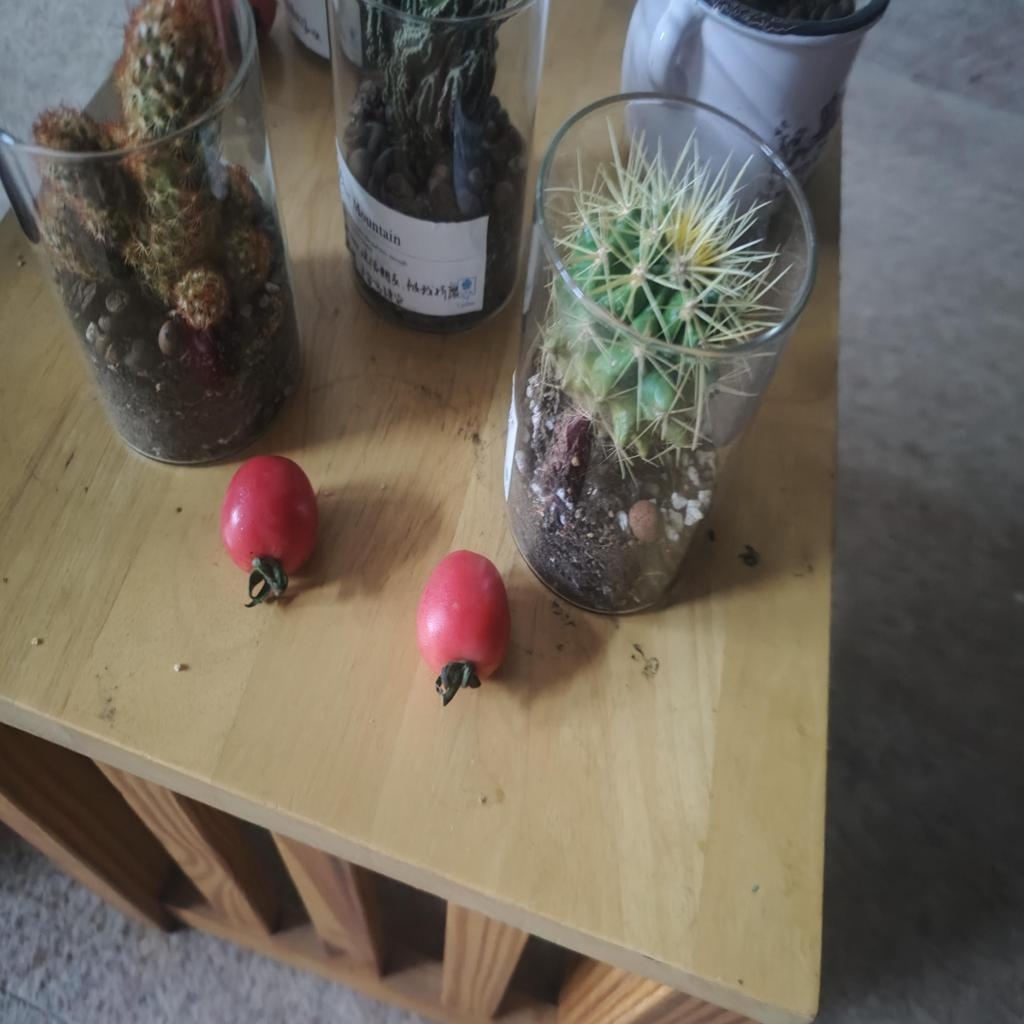tomato: (411, 549, 514, 686), (221, 458, 322, 589)
